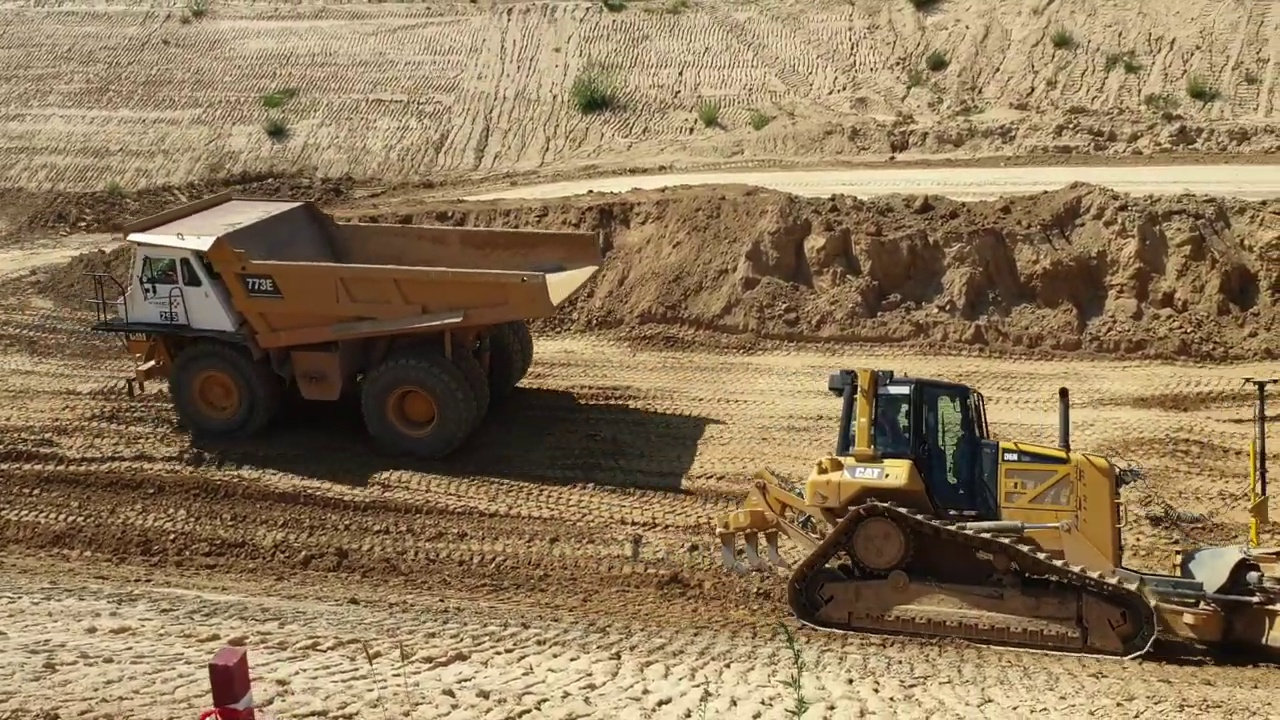bulldozer: (708, 362, 1280, 672)
truck: (84, 186, 606, 465)
